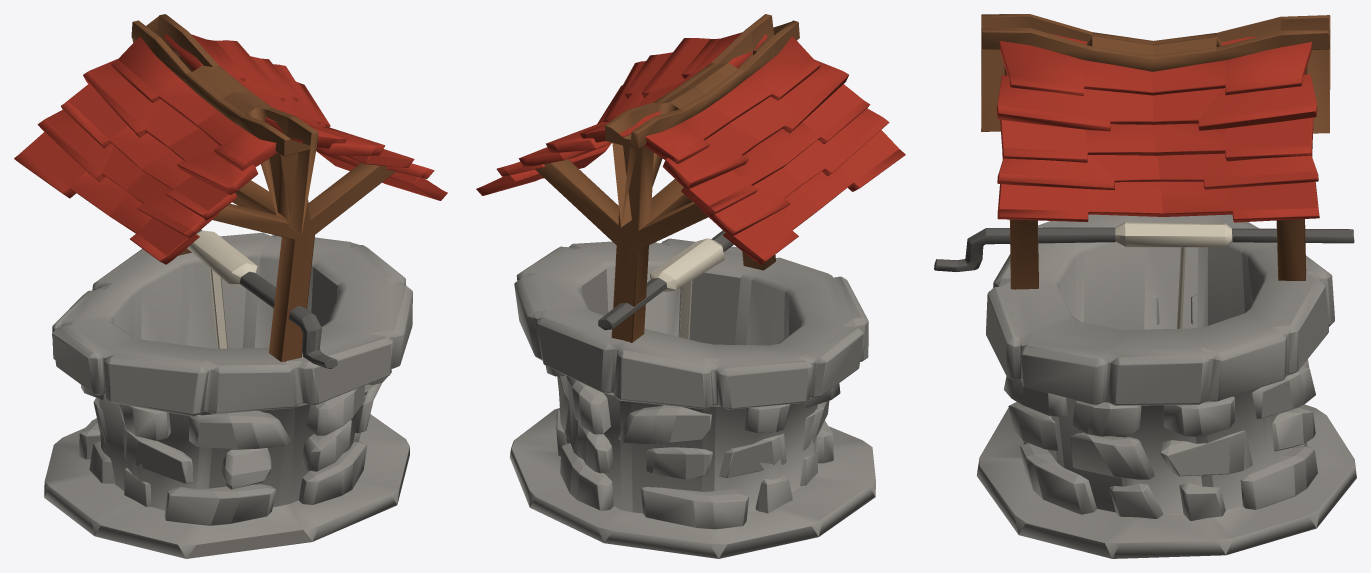
Rendered from farm_well_01.glb.
3 renders of one model, left to right at view 1: azimuth 30°, elevation 25°; view 2: azimuth 150°, elevation 25°; view 3: azimuth 270°, elevation 25°, orthographic. The views are drawn at different scales.
Parts seen in each view (by area): view 1: farm_well_01; view 2: farm_well_01; view 3: farm_well_01.
Part boxes in pixels (<box>): farm_well_01: <box>14,14,447,558</box>; farm_well_01: <box>476,14,905,558</box>; farm_well_01: <box>934,14,1356,558</box>.
Bounding box in the file's own units: 2.3 × 2.85 × 2.4.
